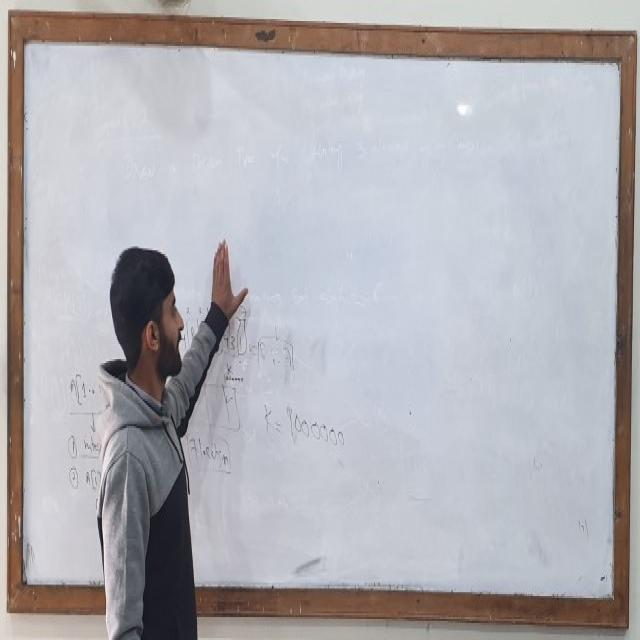Instructor: (95, 231, 205, 640)
White-board: (15, 19, 628, 622)
